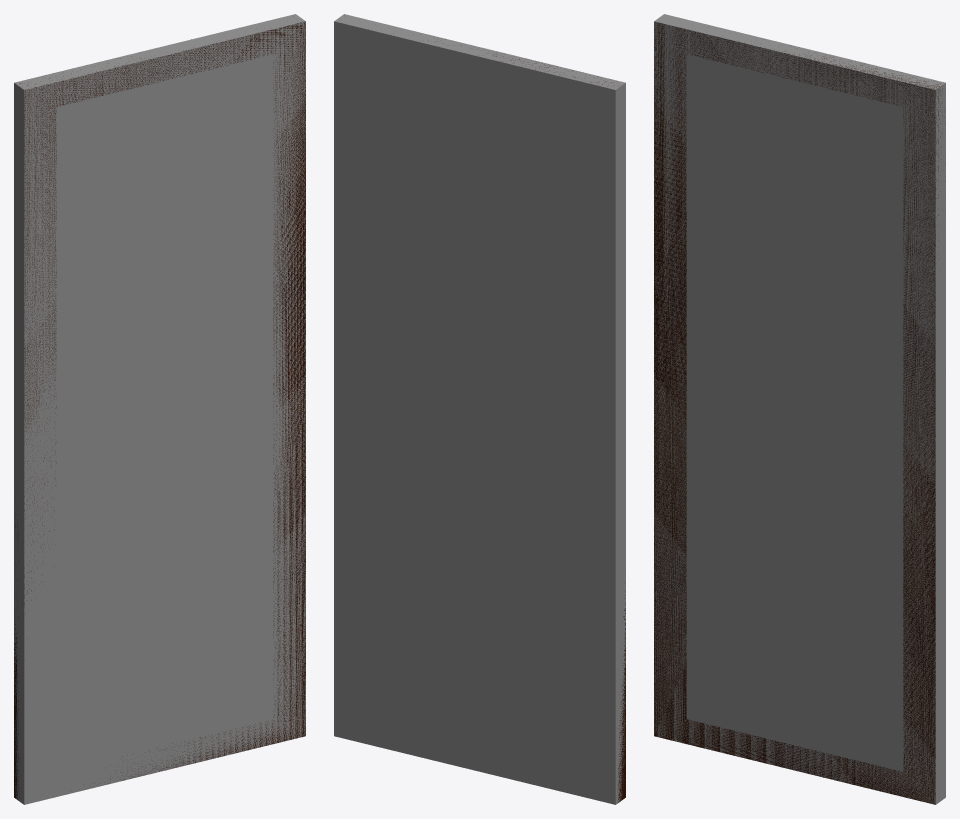
Rendered from picture_03.FBX.
3 renders of one model, left to right at view 1: azimuth 30°, elevation 25°; view 2: azimuth 150°, elevation 25°; view 3: azimuth 330°, elevation 25°, orthographic.
Parts seen in each view (by area): view 1: bounds, painting_three100; view 2: bounds, painting_three100; view 3: bounds, painting_three100.
Part boxes in pixels (x1=…): bounds: x1=14, y1=14, x2=305, y2=804; painting_three100: x1=14, y1=21, x2=305, y2=799; bounds: x1=334, y1=14, x2=625, y2=804; painting_three100: x1=445, y1=39, x2=625, y2=802; bounds: x1=654, y1=14, x2=945, y2=804; painting_three100: x1=654, y1=22, x2=945, y2=804.
Bounding box in the file's own units: 70.4 × 171 × 4.35.
